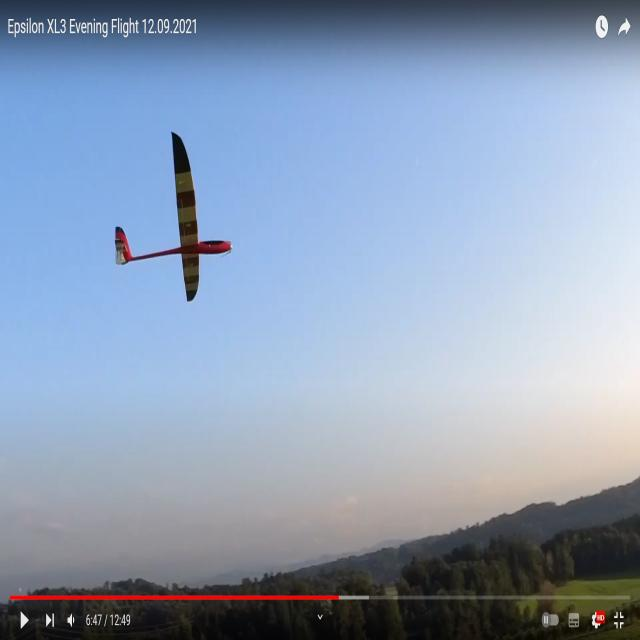iha: (147, 131, 198, 303)
